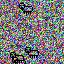sheep: (19, 3, 33, 14), (25, 47, 39, 58)
